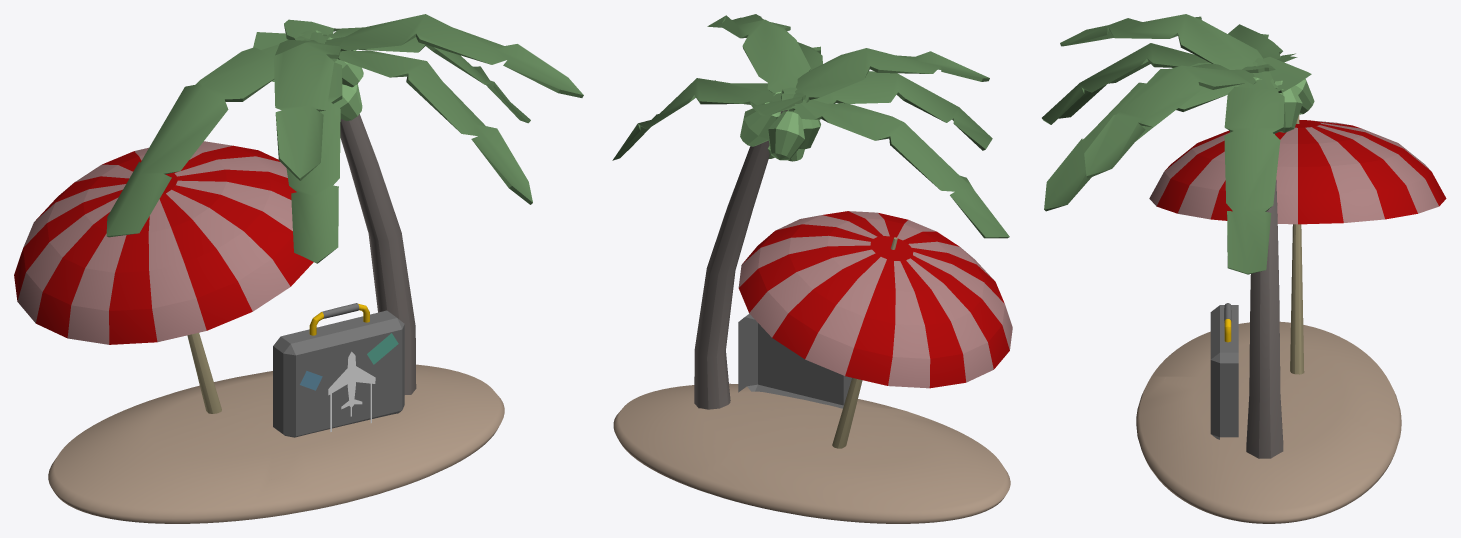
File: Vacations fbx.fbx
3 views of the same model, side by side, from view 1: azimuth 30°, elevation 25°; view 2: azimuth 150°, elevation 25°; view 3: azimuth 270°, elevation 25° (orthographic). The views are drawn at different scales.
Parts seen in each view (by area): view 1: pSphere1, polySurface4, polySurface12, pCube1, pCylinder4, pSphere8, pPlane14; view 2: pSphere1, polySurface4, polySurface12, pCylinder4, pCube1, pSphere8; view 3: pSphere1, polySurface12, polySurface4, pCylinder4, pCube1, pSphere8.
Boxes of the visible parts, x1=… form: pSphere1: x1=48, y1=364, x2=504, y2=523; polySurface4: x1=14, y1=141, x2=313, y2=413; polySurface12: x1=106, y1=14, x2=583, y2=263; pCube1: x1=273, y1=310, x2=404, y2=437; pCylinder4: x1=340, y1=114, x2=416, y2=394; pSphere8: x1=272, y1=30, x2=363, y2=121; pPlane14: x1=328, y1=351, x2=375, y2=431; pSphere1: x1=613, y1=383, x2=1010, y2=523; polySurface4: x1=738, y1=211, x2=1012, y2=448; polySurface12: x1=612, y1=14, x2=1009, y2=238; pCylinder4: x1=694, y1=110, x2=787, y2=409; pCube1: x1=738, y1=313, x2=851, y2=408; pSphere8: x1=740, y1=91, x2=820, y2=161; pSphere1: x1=1136, y1=321, x2=1401, y2=523; polySurface12: x1=1042, y1=14, x2=1311, y2=274; polySurface4: x1=1149, y1=114, x2=1446, y2=374; pCylinder4: x1=1246, y1=134, x2=1283, y2=458; pCube1: x1=1210, y1=305, x2=1238, y2=439; pSphere8: x1=1230, y1=77, x2=1314, y2=132.
Bounding box in the file's own units: 13.6 × 12.67 × 11.34.
